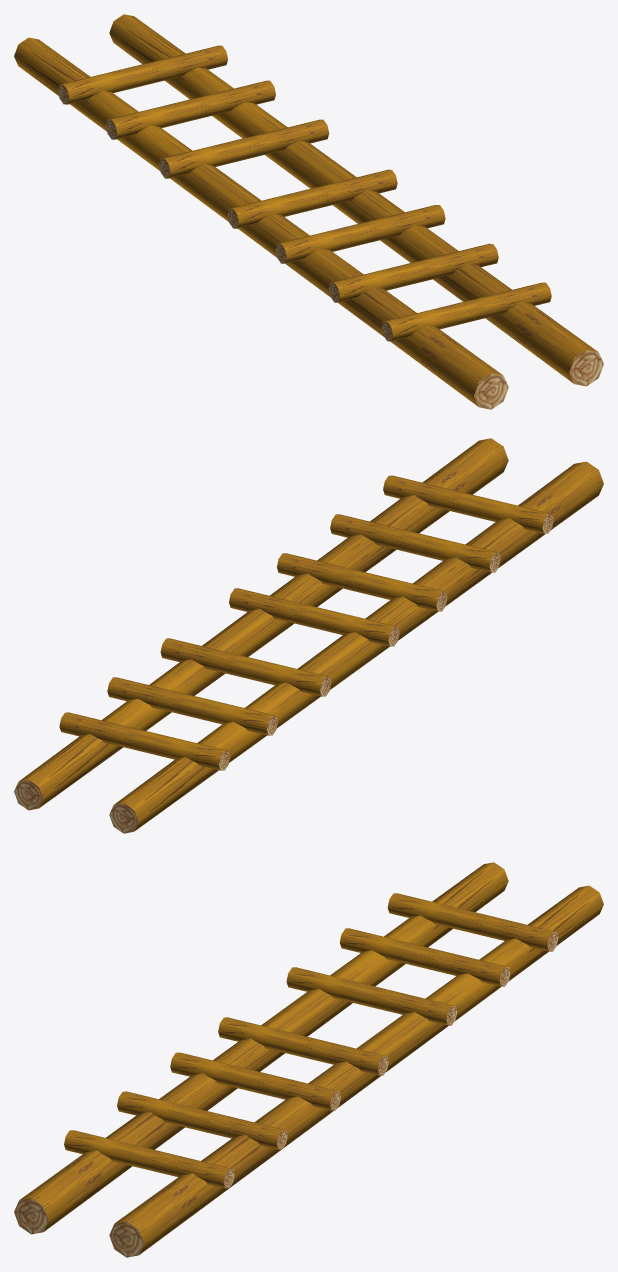
The model's file is ladar1.FBX.
The picture shows the model from 3 angles, top to bottom: view 1: azimuth 30°, elevation 25°; view 2: azimuth 150°, elevation 25°; view 3: azimuth 330°, elevation 25°; orthographic projection.
Parts seen in each view (by area): view 1: Cylinder002; view 2: Cylinder002; view 3: Cylinder002.
Part boxes in pixels (x1,y1,x2,y2): Cylinder002: (14,14,603,409); Cylinder002: (14,438,603,833); Cylinder002: (14,862,603,1257).
Size of the model in its own units: 38.08 by 10.06 by 192.
